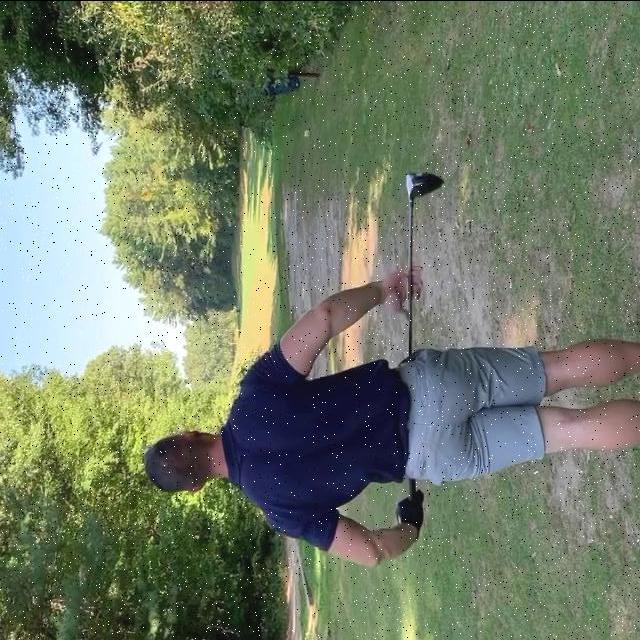golf club-handle: (404, 169, 448, 503)
golf club-head: (404, 171, 447, 197)
